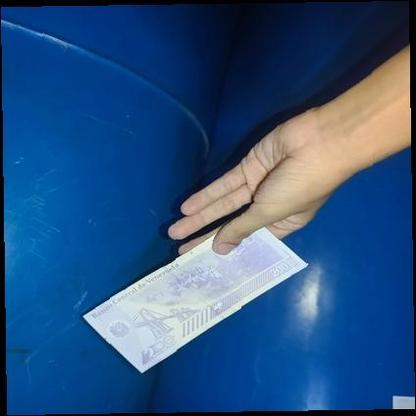two_hundred-back-vef: (81, 224, 310, 375)
